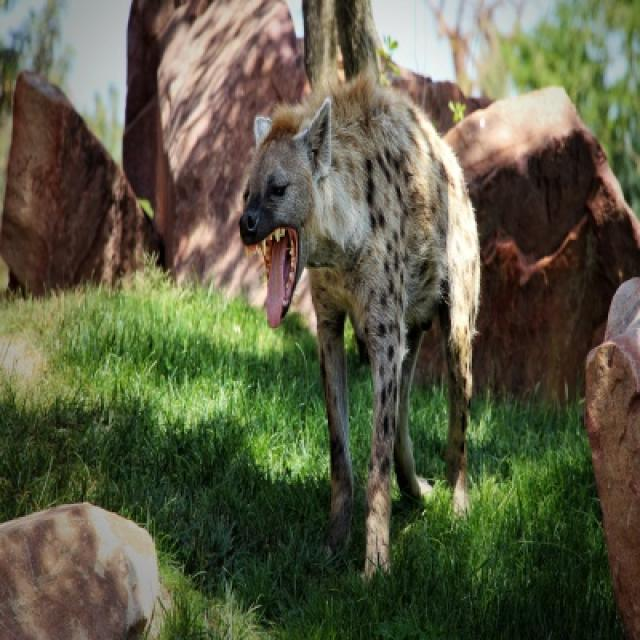hyena: (238, 0, 480, 578)
